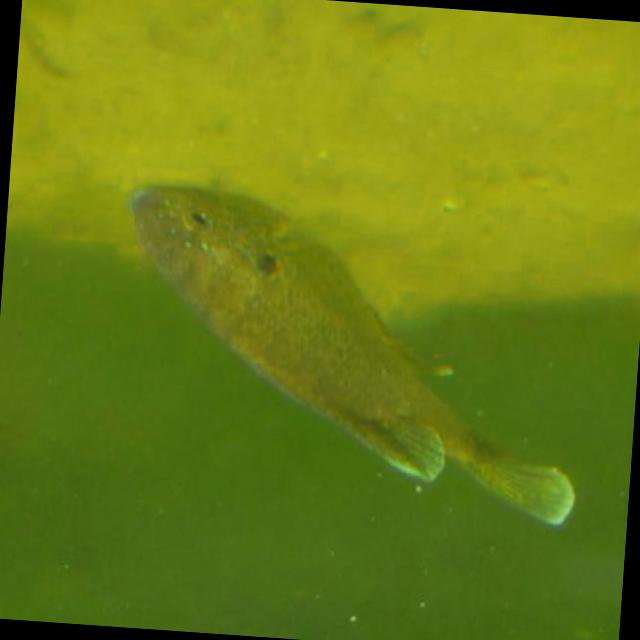Gunes Levregi: (104, 162, 596, 532)
